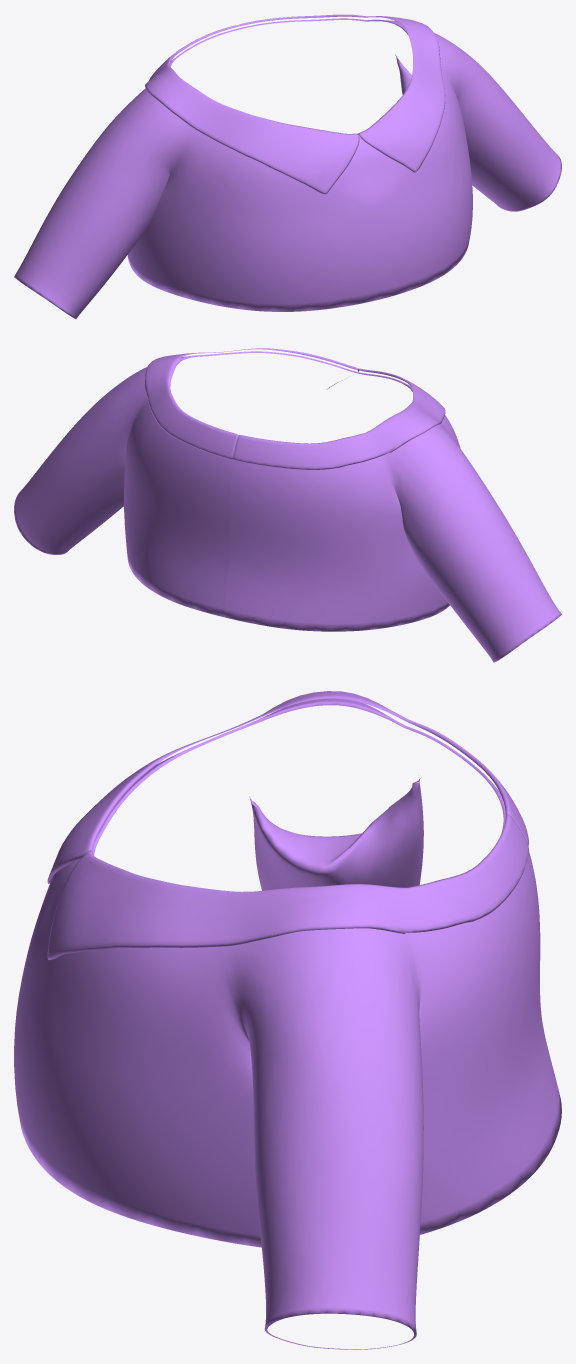
The model's file is hyein_top.gltf.
3 views of the same model, one above another, from view 1: azimuth 30°, elevation 25°; view 2: azimuth 150°, elevation 25°; view 3: azimuth 270°, elevation 25° (orthographic). The views are drawn at different scales.
Parts seen in each view (by area): view 1: hyein_top; view 2: hyein_top; view 3: hyein_top.
Part boxes in pixels (x1,y1,x2,y2): hyein_top: [14, 14, 561, 319]; hyein_top: [14, 348, 561, 662]; hyein_top: [14, 691, 561, 1349].
Size of the model in its own units: 0.059 by 0.0227 by 0.0301.
